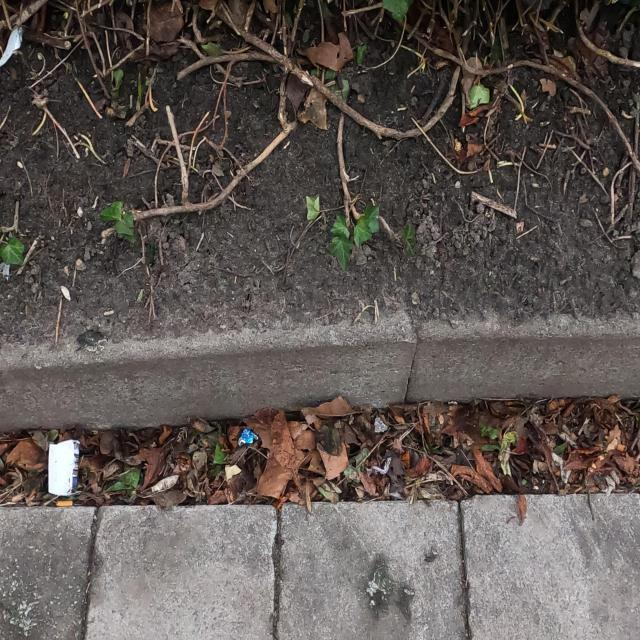Paper: (48, 438, 80, 498)
Plastic: (237, 427, 259, 447)
